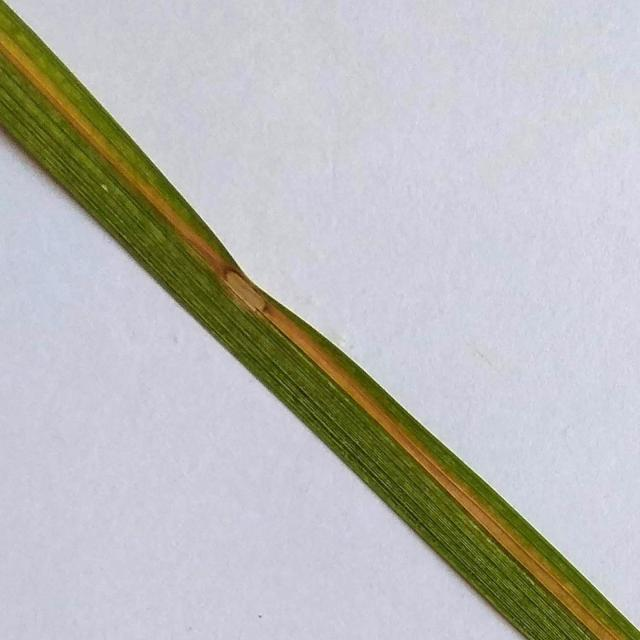Leaf_Blast: (215, 259, 280, 334)
